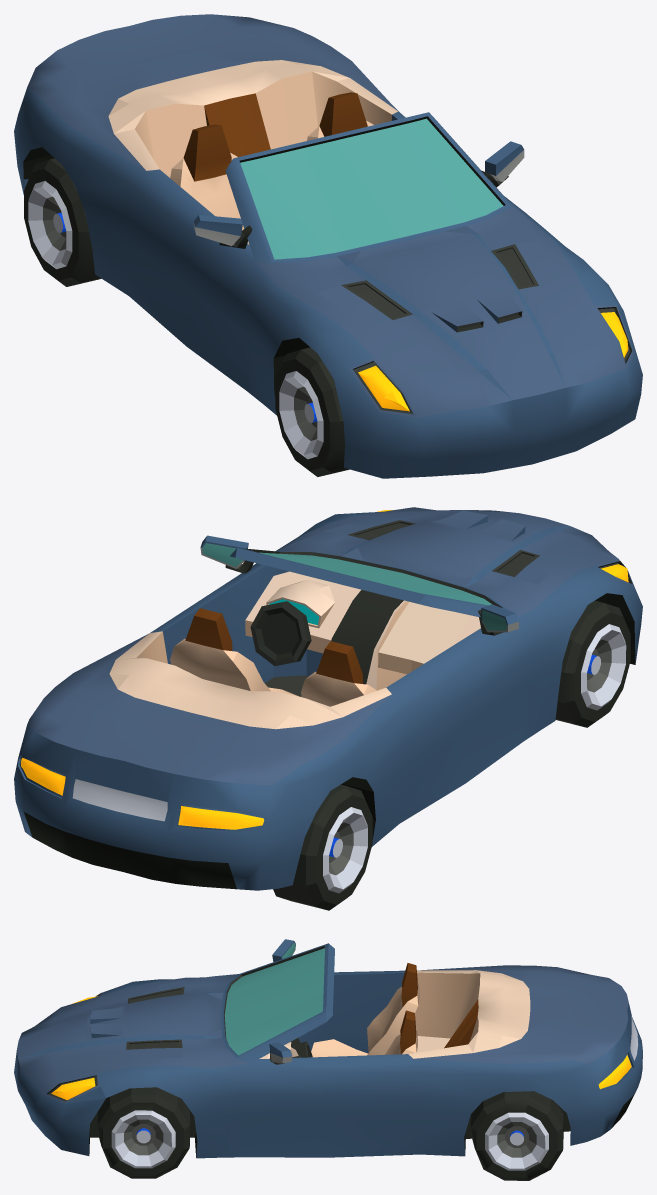
File: Aston_Martin.glb
The picture shows the model from 3 angles, top to bottom: view 1: azimuth 30°, elevation 25°; view 2: azimuth 150°, elevation 25°; view 3: azimuth 270°, elevation 25°; orthographic projection. The views are drawn at different scales.
Parts seen in each view (by area): view 1: AstonMartin; view 2: AstonMartin; view 3: AstonMartin.
Part boxes in pixels (box(x1,y1,x2,y2)): AstonMartin: box(14, 14, 642, 478); AstonMartin: box(14, 507, 642, 910); AstonMartin: box(14, 939, 642, 1180).
Size of what is drawn, in the model's own units: 2.92 by 1.78 by 6.71.
Materials: 1 (1 with a texture image).
